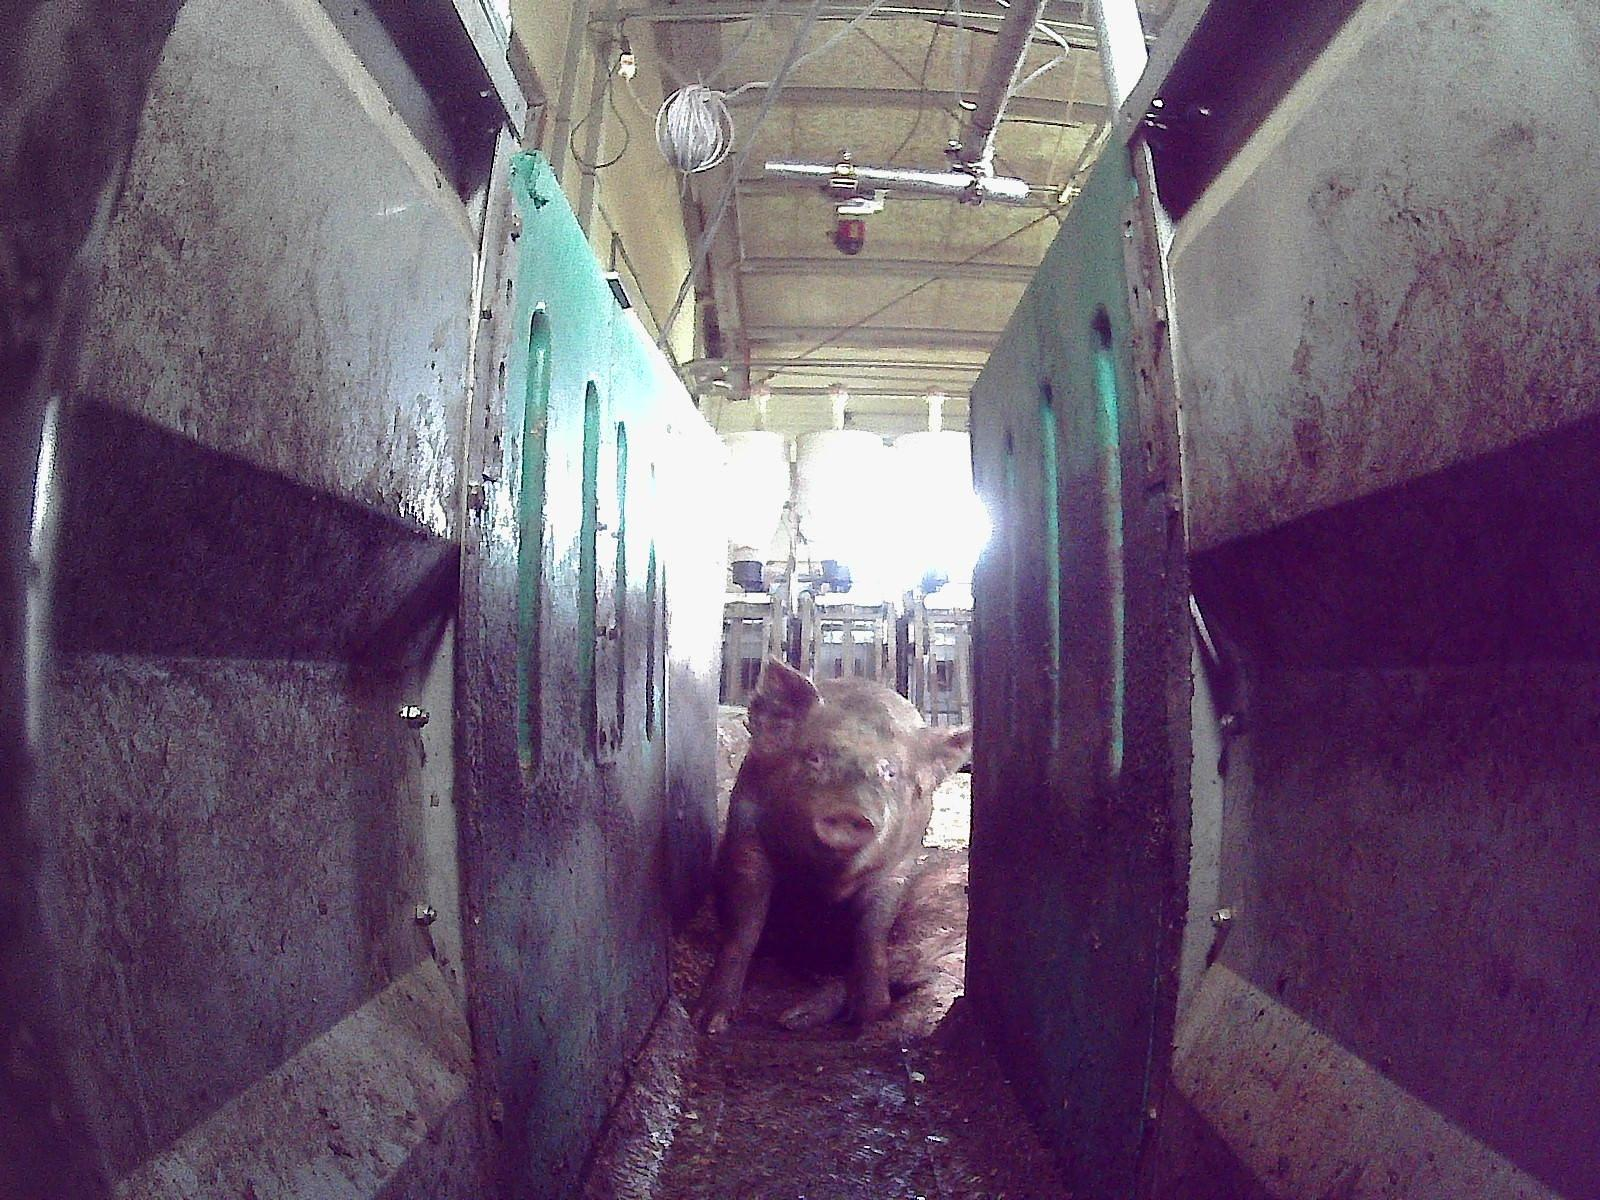Face: (778, 706, 911, 872)
